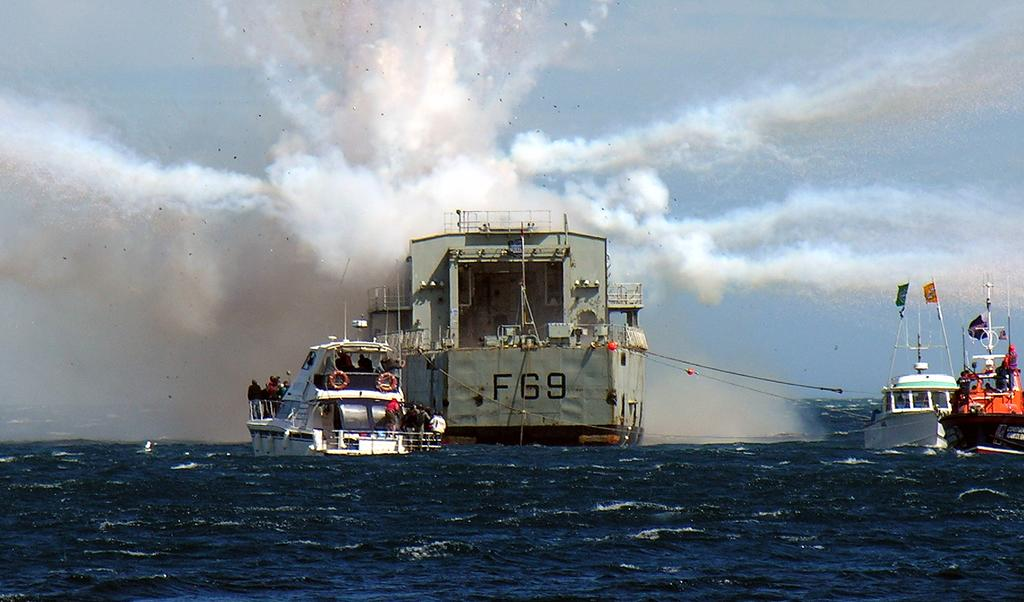PassengerShip: (241, 326, 447, 464), (854, 344, 960, 456), (938, 336, 1024, 462)
